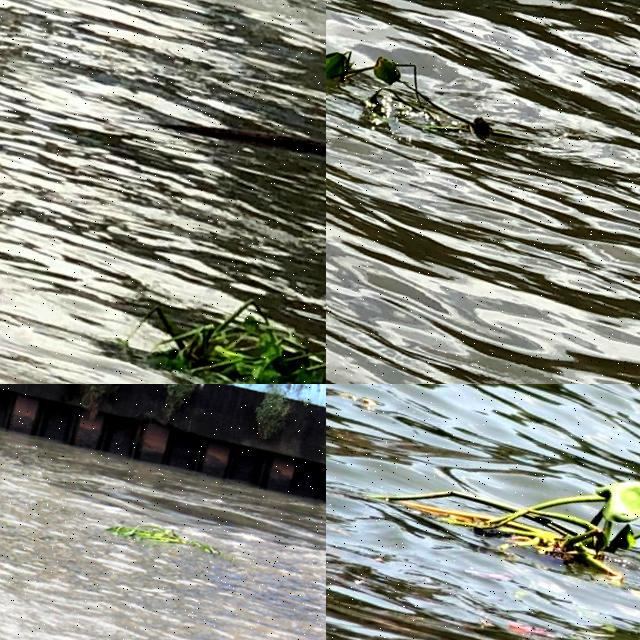water-hyacinth: (372, 415, 640, 603), (327, 18, 521, 161), (125, 276, 327, 385)
